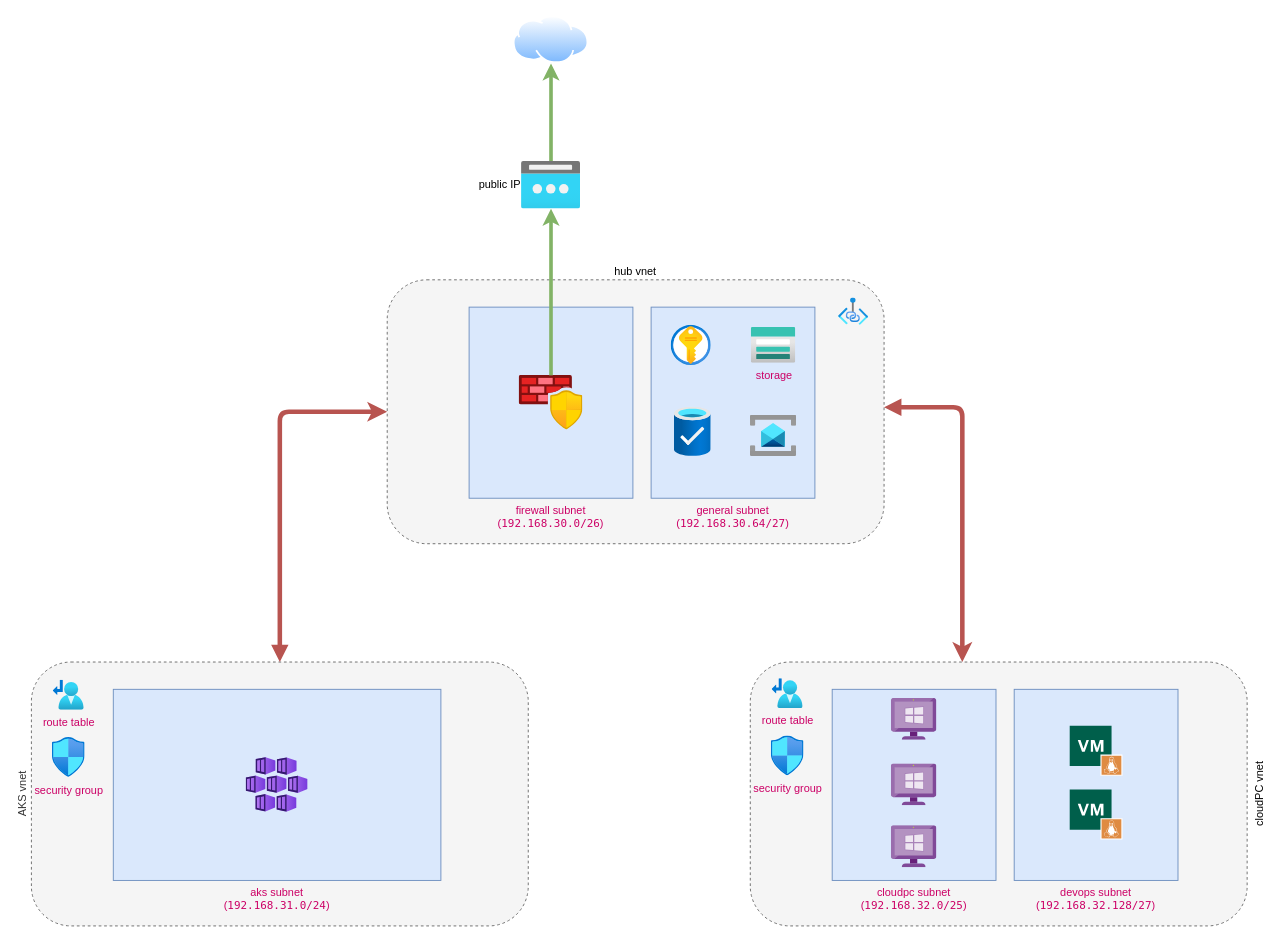
Image size: 1281x942. Some labels were removed from this diagram. Each missing label, with the centre of its shape:
AKS: (x=277, y=784)
Azure Firewall: (x=550, y=402)
bus: (x=773, y=435)
db: (x=692, y=431)
internet: (x=550, y=39)
private link: (x=853, y=311)
vault: (x=691, y=345)
